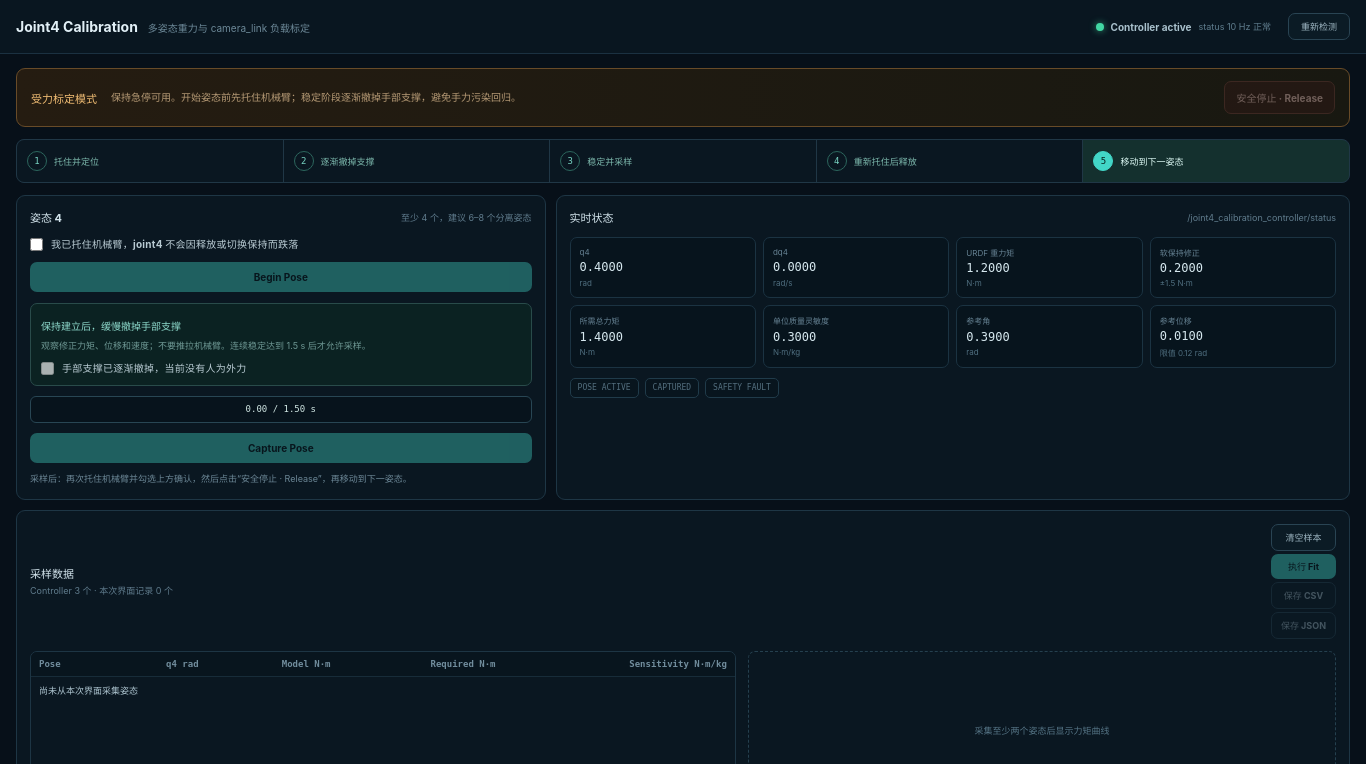
Test: Joint4CalibrationPage › locks further sampling after a service failure until safety release succeeds
Click the checkbox labelled "我已托住机械臂，joint4 不会因释放或切换保持而跌落": (36, 244) [30,238,43,251]
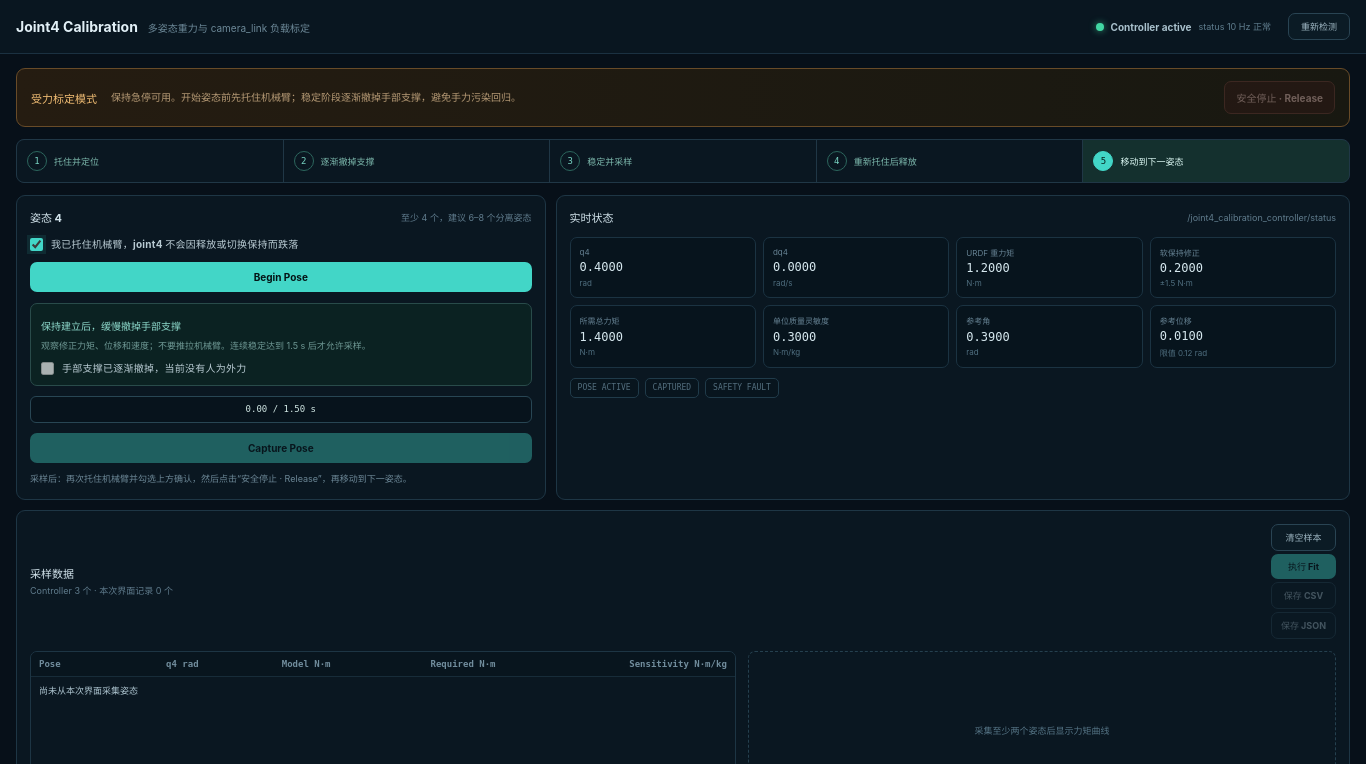
Click the button "Begin Pose": (281, 276) [30,262,532,292]
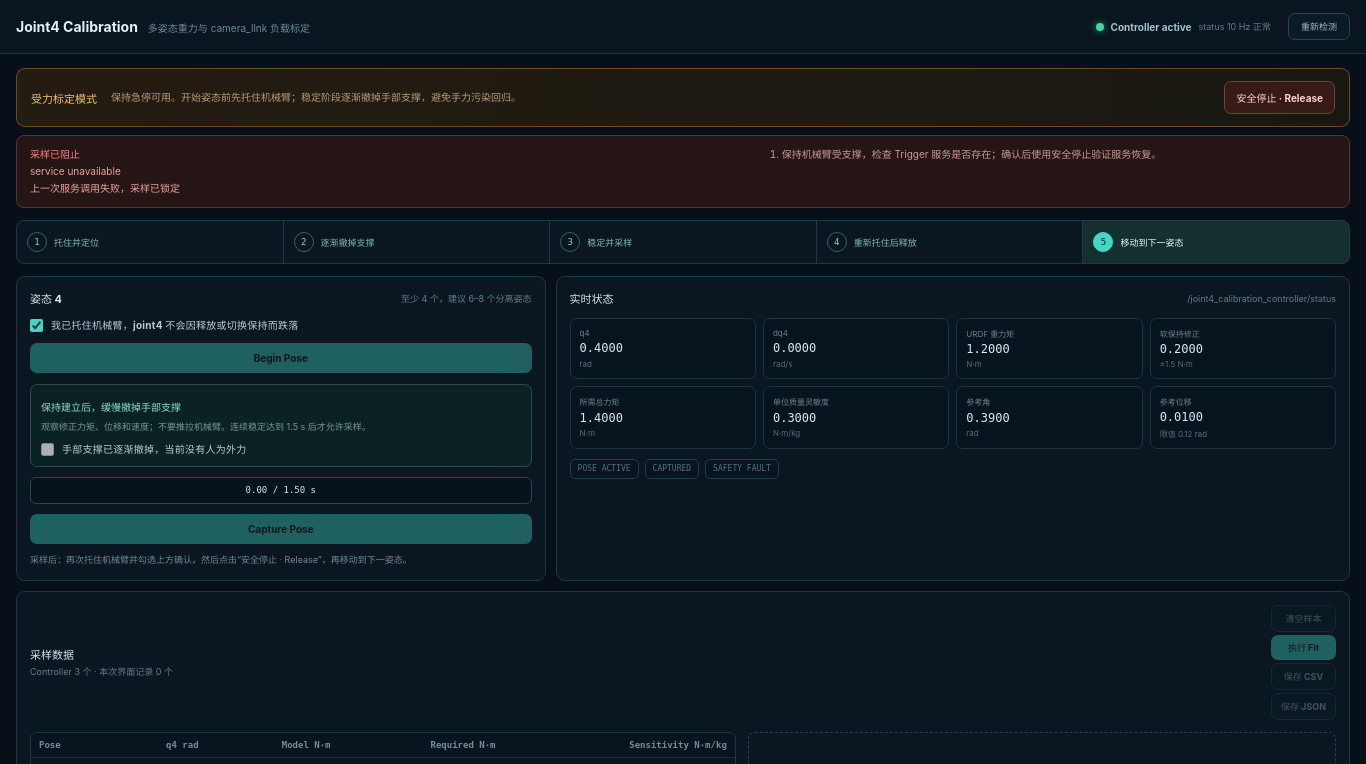
expect the message shows "上一次服务调用失败，采样已锁定": met, box [30,182,180,194]
Click the button "安全停止 · Release": (1280, 98) [1224,81,1335,114]
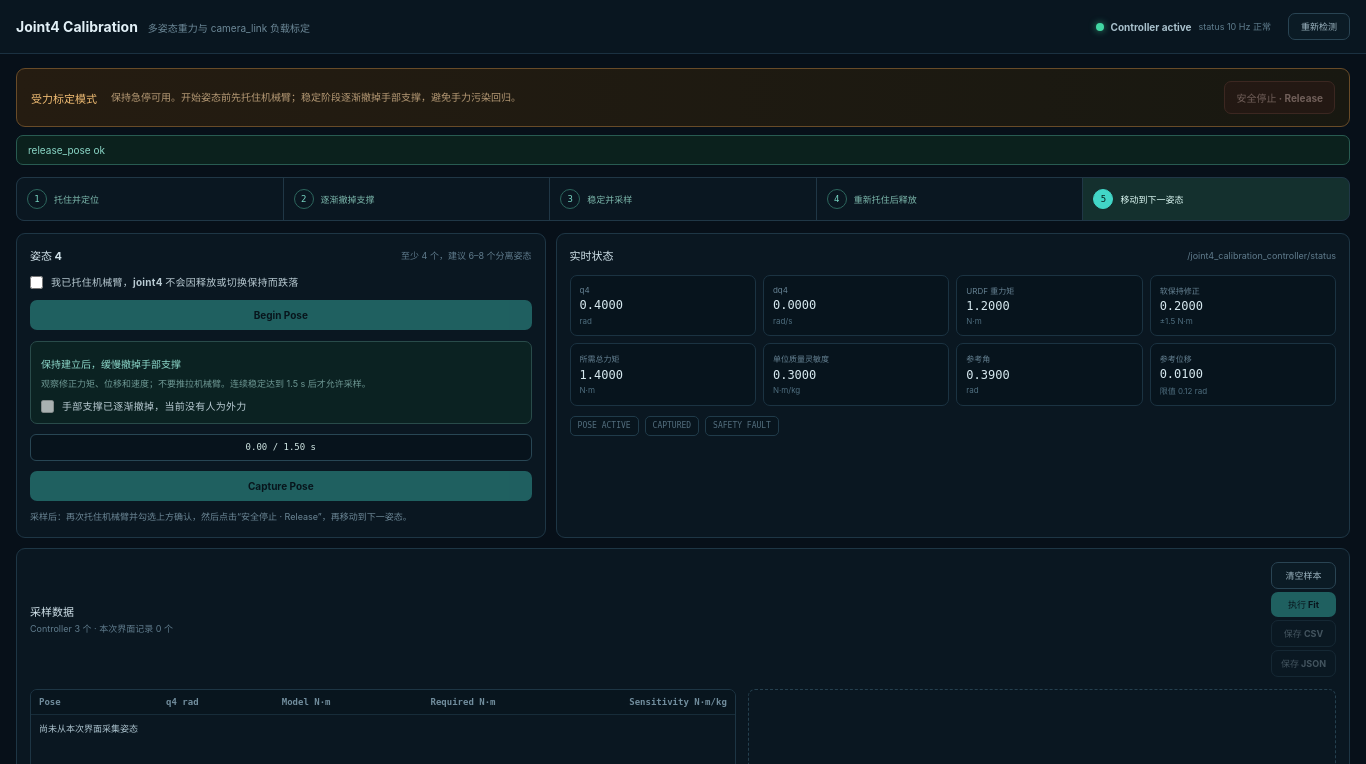
expect the text "release_pose ok" is shown: met, box [16,135,1350,165]
